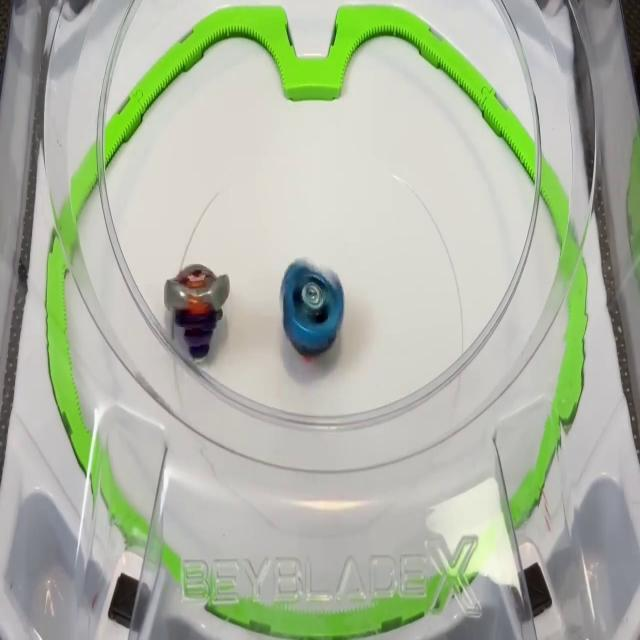Beyblade: (280, 259, 344, 358), (164, 264, 228, 358)
